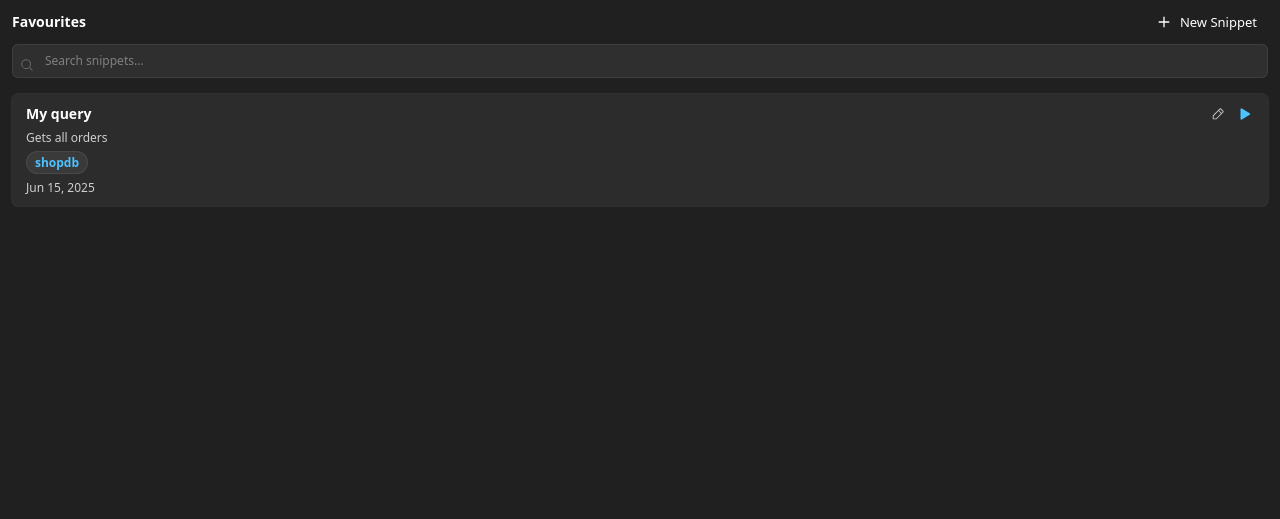
it: FavouritesView › selecting a card shows inline detail panel
The width and height of the screenshot is (1280, 519).
# Click the card to select it
Click the button with test id "favourites-snippet-card-1" at coordinates (59, 114), box [12,94,1268,206]
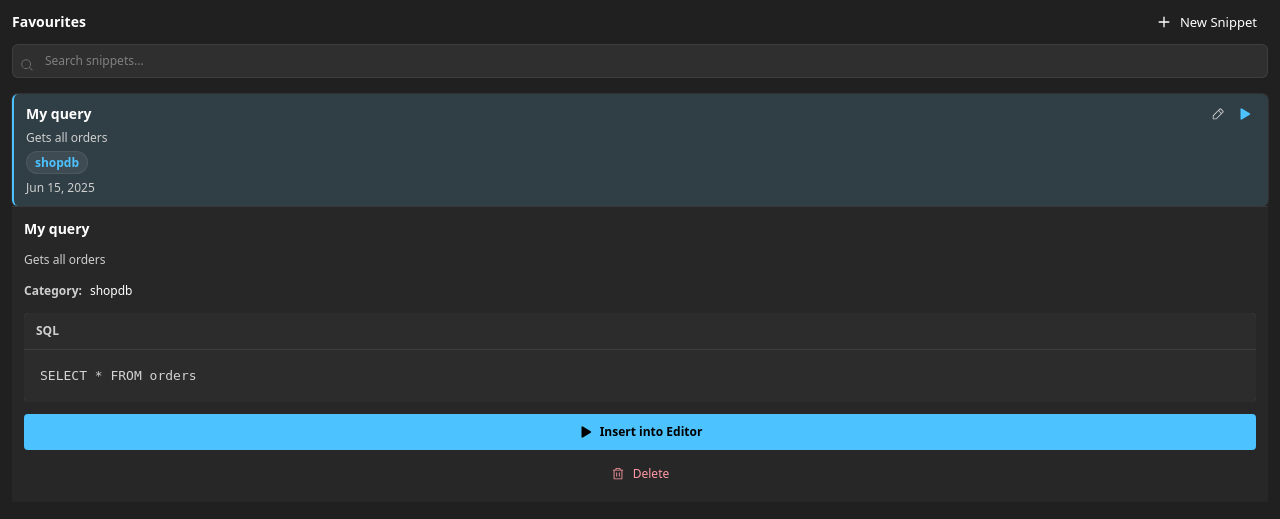
Check: the element with test id "favourites-detail-panel" is shown, box [12,206,1268,502]
